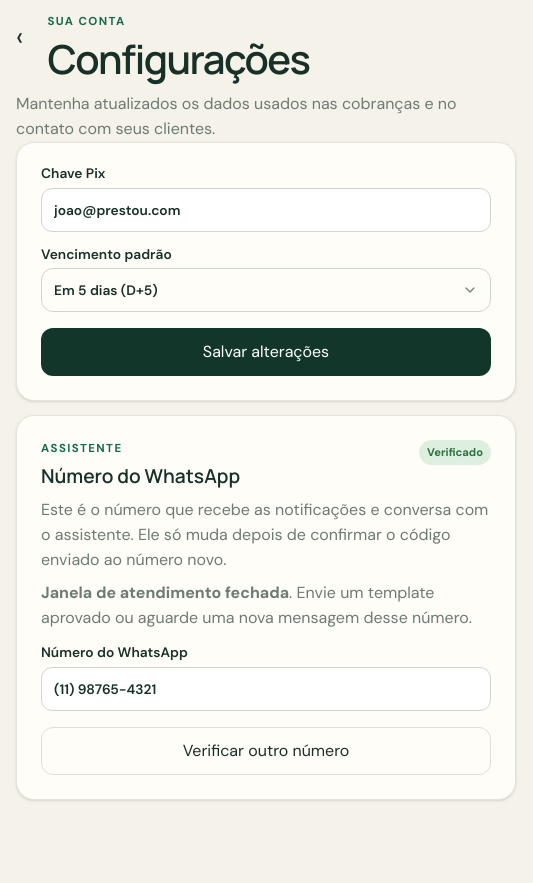
número do WhatsApp nas configurações › não afirma que enviou código quando o servidor não reservou o candidato
The width and height of the screenshot is (533, 883).
Replace the text in the field labelled "Número do WhatsApp" with "11976543210" at (266, 689), box [41,667,491,711]
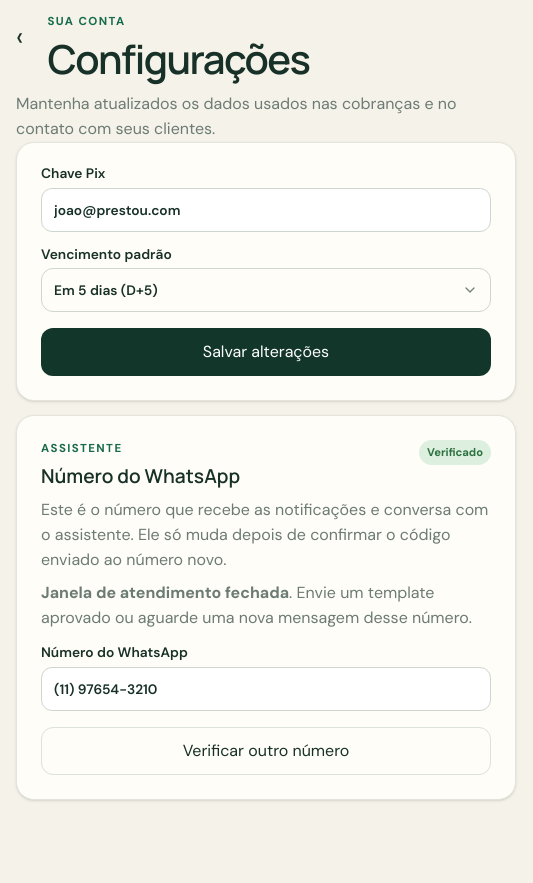
Click the button "Verificar outro número" at (266, 751), box [41,727,491,775]
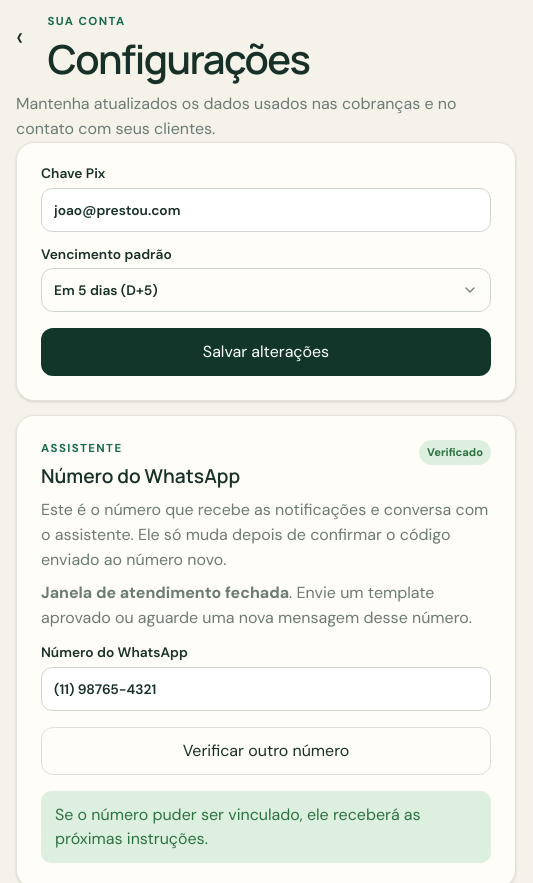
Result: the text "Se o número puder ser vinculado, ele receberá as próximas instruções." is shown at [41,791,491,863]
